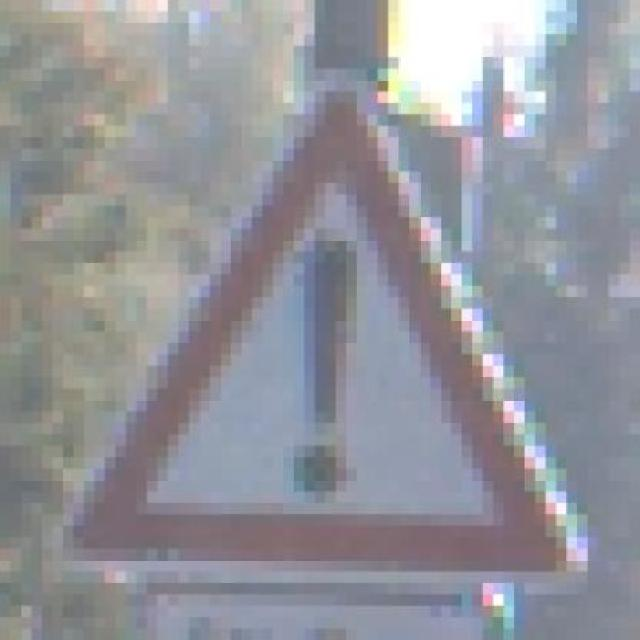Attention Please-: (73, 69, 598, 606)
